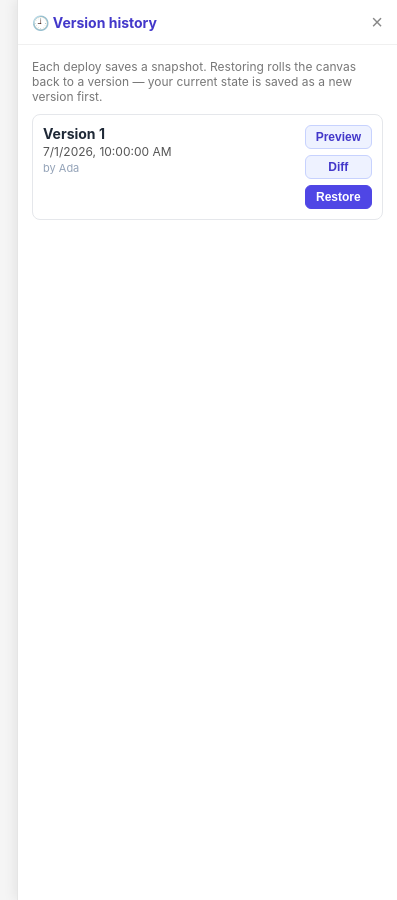
HistoryPanel diff view › says so when the canvas matches the version
This screenshot has width=397, height=900.
Click the button "Diff": (338, 167) [305,155,372,179]
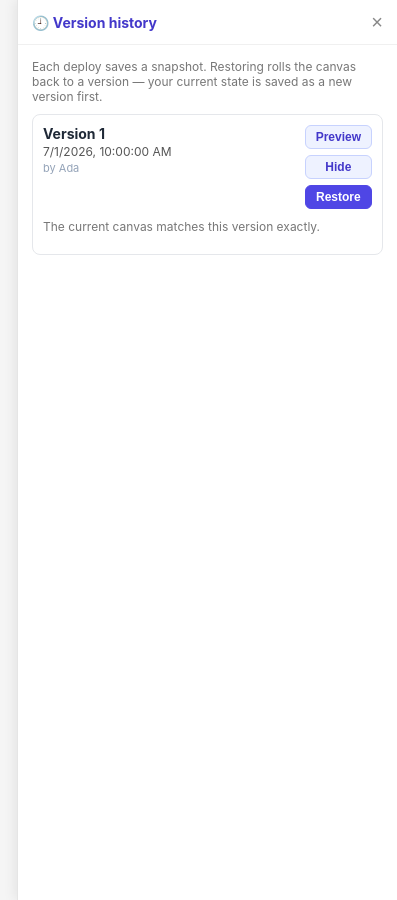
Now the text "The current canvas matches this version exactly." is shown, box [43,219,320,234]
